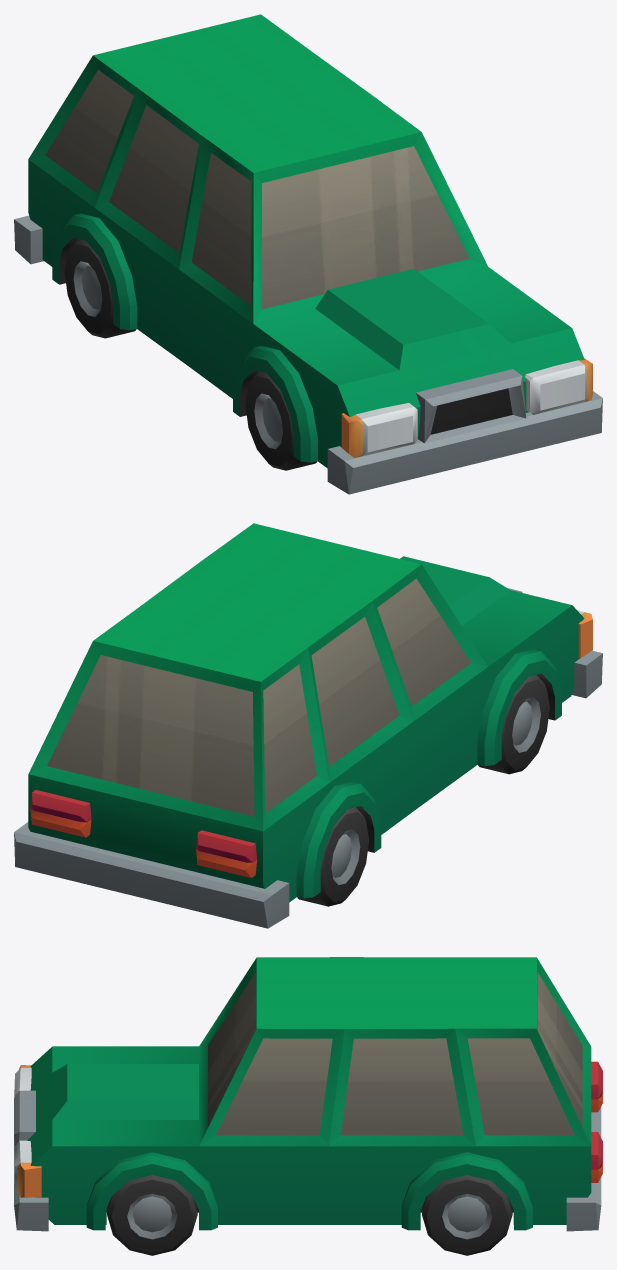
File: car_stationwagon.gltf
3 views of the same model, one above another, from view 1: azimuth 30°, elevation 25°; view 2: azimuth 150°, elevation 25°; view 3: azimuth 270°, elevation 25° (orthographic). The views are drawn at different scales.
Visible parts, largest first — view 1: car_stationwagon, car_stationwagon_wheel_front_right, car_stationwagon_wheel_rear_right; view 2: car_stationwagon, car_stationwagon_wheel_rear_right, car_stationwagon_wheel_front_right; view 3: car_stationwagon, car_stationwagon_wheel_rear_left, car_stationwagon_wheel_front_left.
Part boxes in pixels (x1,y1,x2,y2): car_stationwagon: (14,14,602,494); car_stationwagon_wheel_front_right: (245,371,317,470); car_stationwagon_wheel_rear_right: (64,239,136,338); car_stationwagon: (14,523,602,928); car_stationwagon_wheel_rear_right: (297,807,369,906); car_stationwagon_wheel_front_right: (478,675,549,774); car_stationwagon: (14,957,602,1231); car_stationwagon_wheel_rear_left: (422,1175,512,1255); car_stationwagon_wheel_front_left: (107,1175,197,1255).
Size of the model in its own units: 0.419 by 0.3688 by 0.9381.
1 material, 1 textured.
